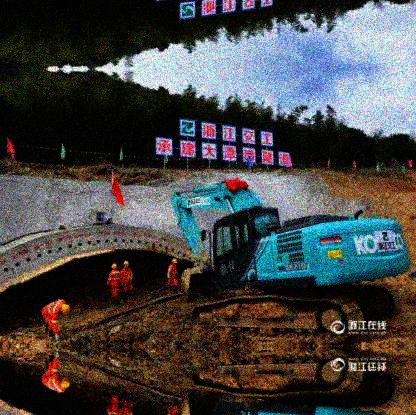helmet: (59, 377, 70, 388), (59, 304, 70, 315), (111, 263, 117, 271), (124, 261, 129, 270), (172, 258, 177, 266)
